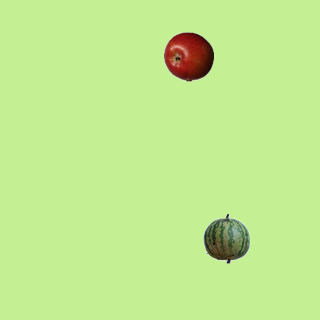Apple Braeburn: (163, 31, 213, 81)
Watermelon: (201, 213, 251, 263)
